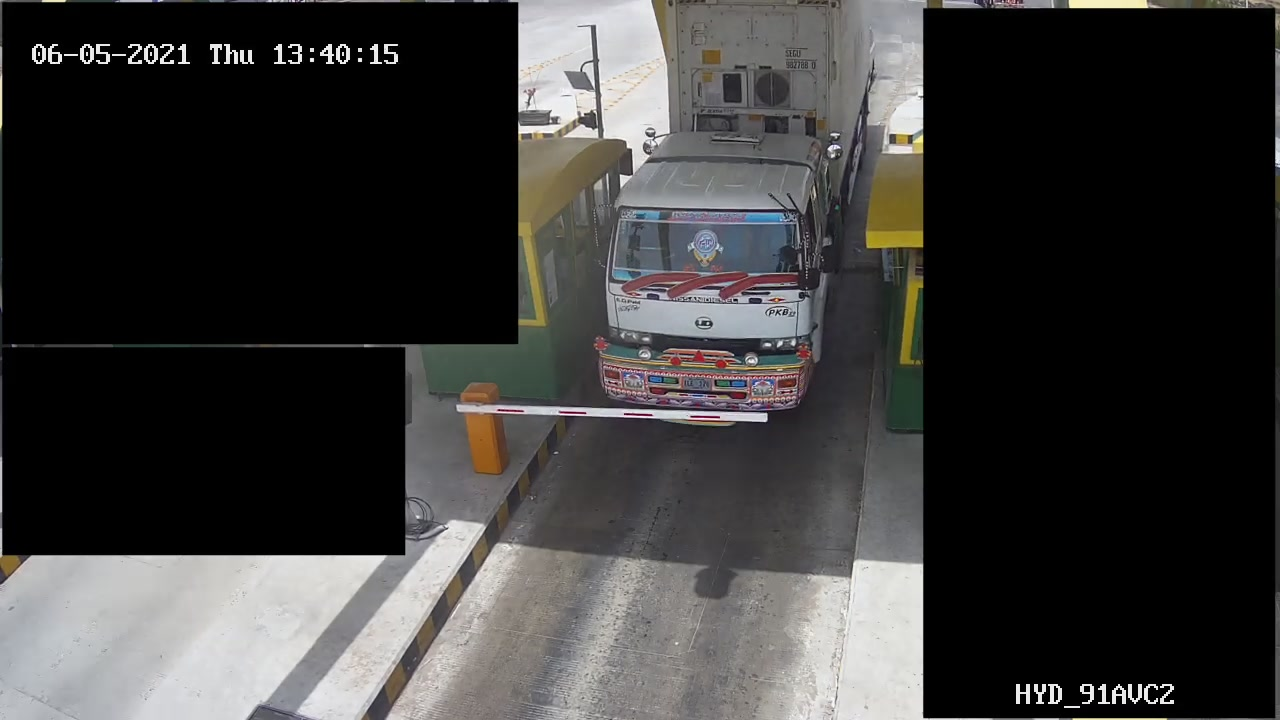F6: (588, 1, 874, 402)
